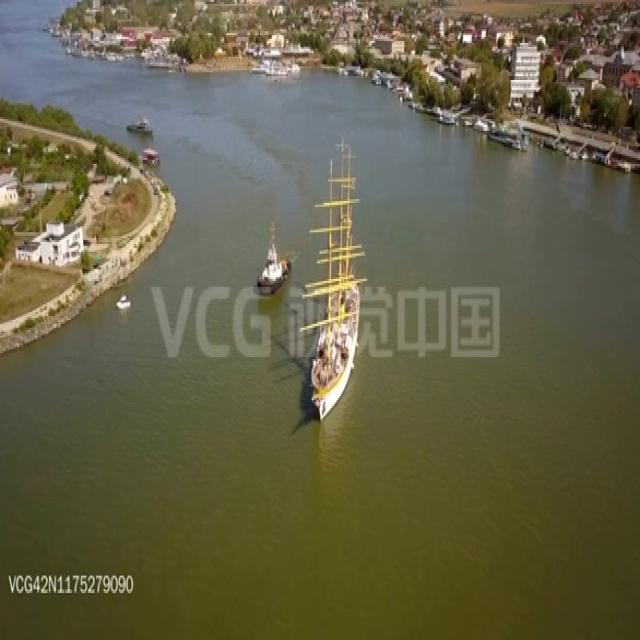houseboat: (257, 222, 287, 293), (126, 110, 154, 140), (141, 141, 160, 169), (115, 291, 134, 311)
sailboat: (306, 135, 363, 420)
